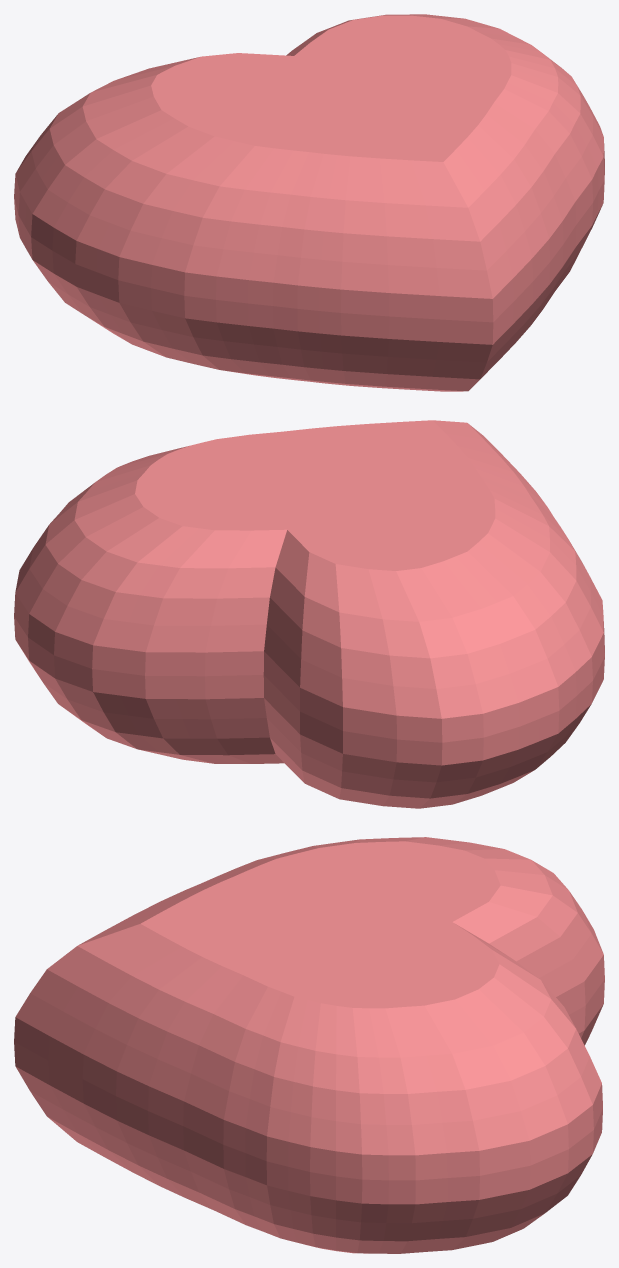
The model's file is heart_flat.fbx.
The picture shows the model from 3 angles, top to bottom: view 1: azimuth 30°, elevation 25°; view 2: azimuth 150°, elevation 25°; view 3: azimuth 270°, elevation 25°; orthographic projection. The views are drawn at different scales.
Parts seen in each view (by area): view 1: heart; view 2: heart; view 3: heart.
Part boxes in pixels (x1,y1,x2,y2): heart: (14,14,604,391); heart: (14,420,604,808); heart: (14,837,604,1253).
Size of the model in its own units: 479 by 200 by 437.
